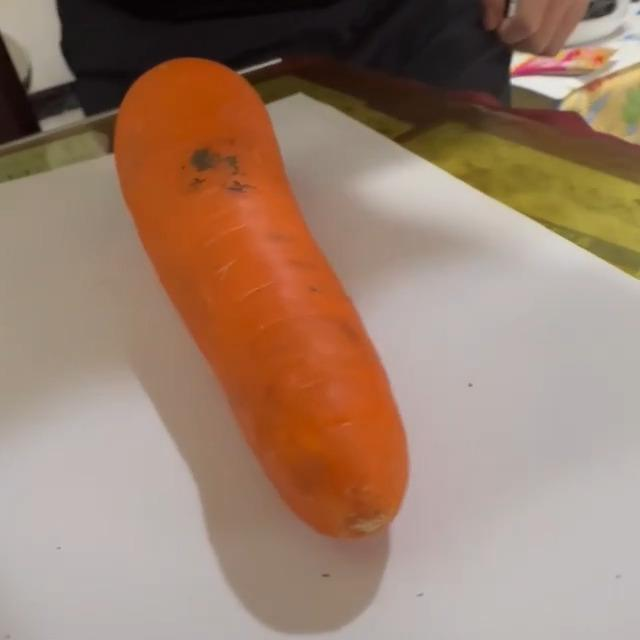carrot: (112, 54, 412, 543)
